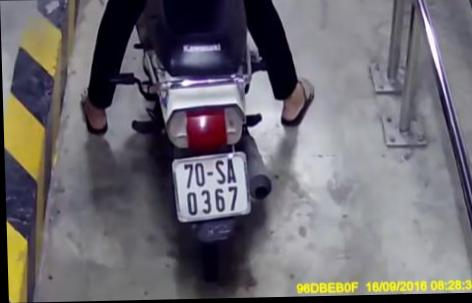LP: (170, 151, 252, 224)
